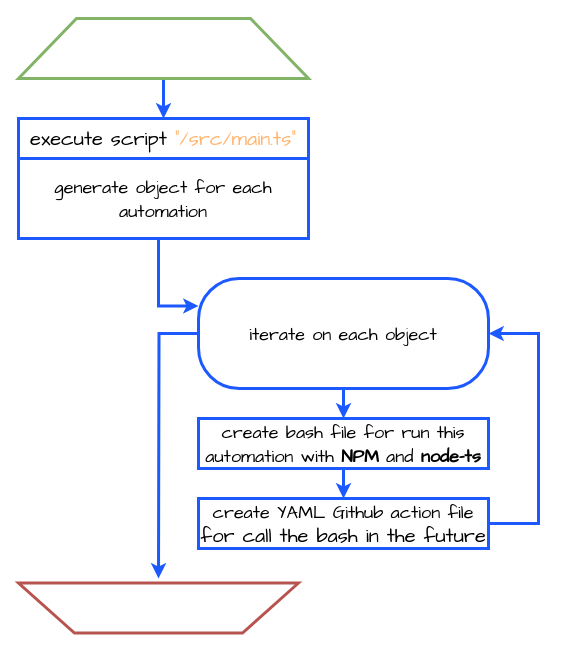
Some shapes in this 565 by 652 pixel diagram are drawn without their labels. The centre of each missing label's shape, as x and y in pixels:
"end" goes at [158,607].
"start" goes at [163,48].
